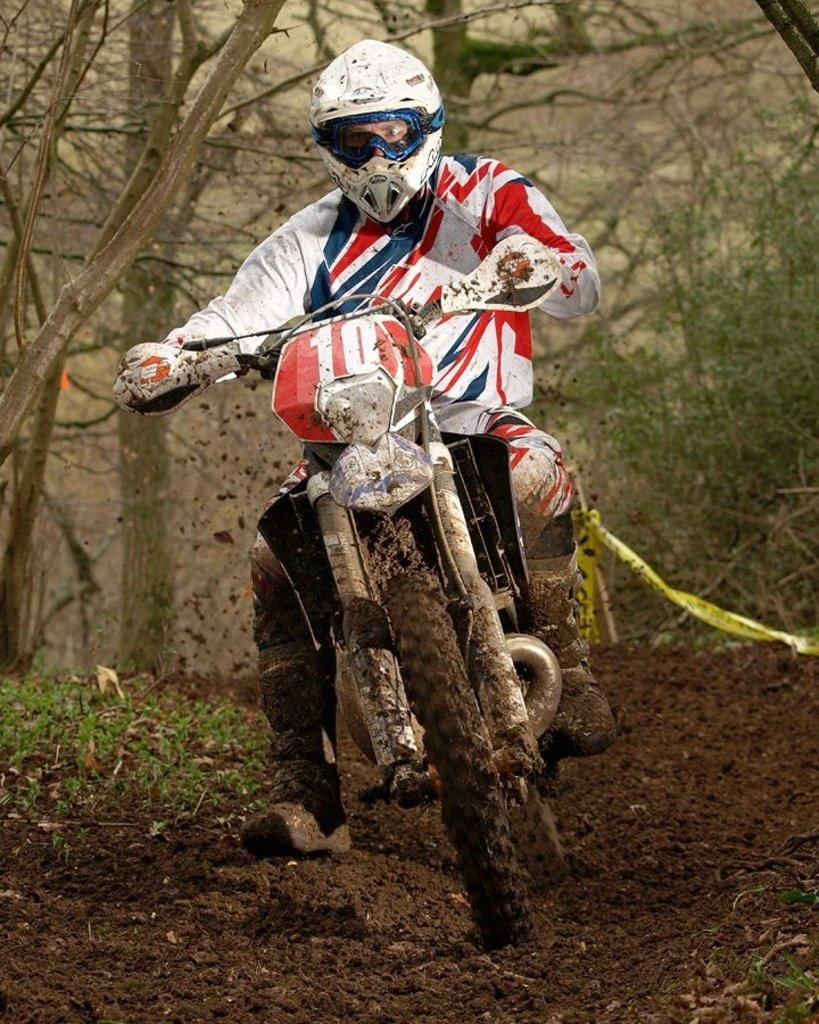helmet: (309, 39, 446, 228)
